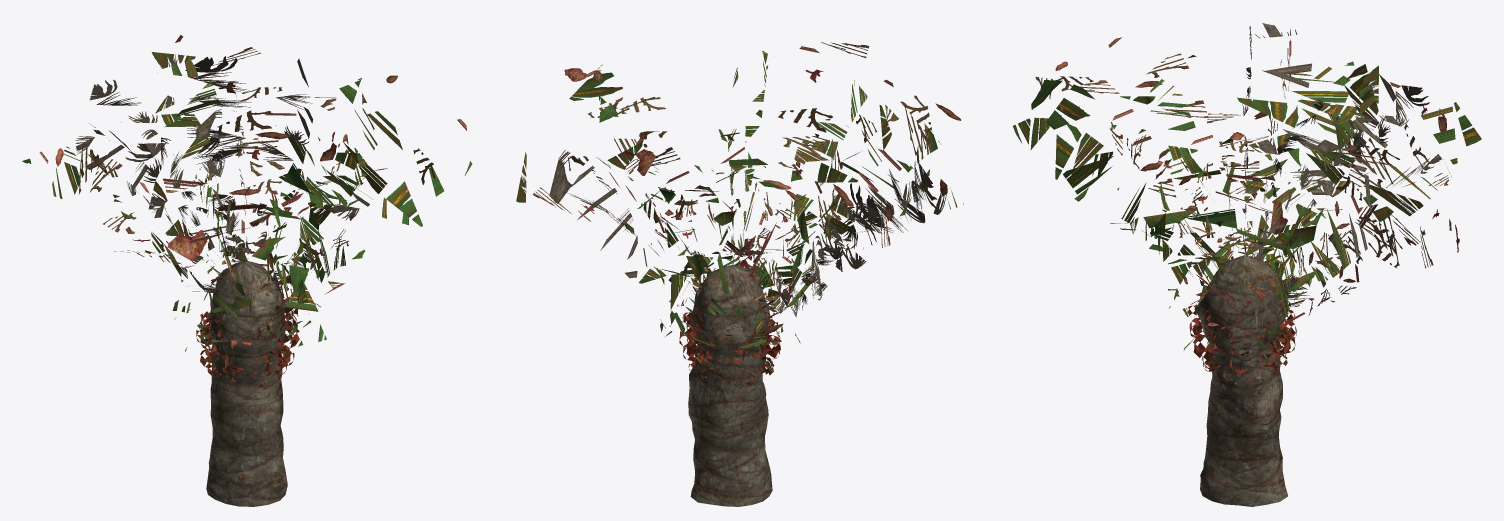
Rendered from Tree - Alien Tree 06 3-BFy4FXt4.glb.
3 views of the same model, side by side, from view 1: azimuth 30°, elevation 25°; view 2: azimuth 150°, elevation 25°; view 3: azimuth 270°, elevation 25° (orthographic). The views are drawn at different scales.
Parts seen in each view (by area): view 1: Tree6_3(Clone); view 2: Tree6_3(Clone); view 3: Tree6_3(Clone).
Part boxes in pixels (bbox=[...]): Tree6_3(Clone): bbox=[22, 35, 472, 506]; Tree6_3(Clone): bbox=[516, 42, 963, 506]; Tree6_3(Clone): bbox=[1013, 23, 1481, 506].
Size of the model in its own units: 6.4 by 6.37 by 6.8.
Materials: 3 (3 with a texture image).
